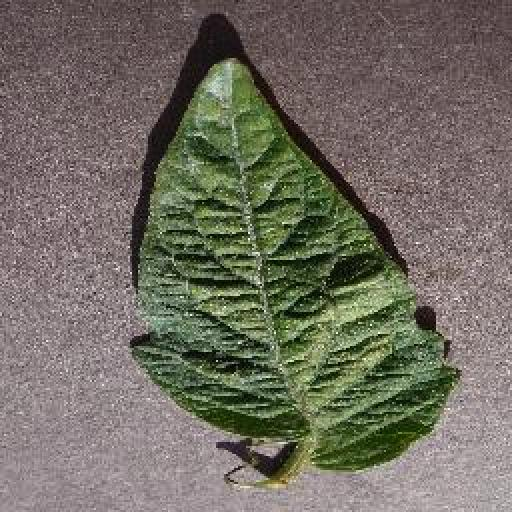disease_tomato: (130, 53, 464, 471)
